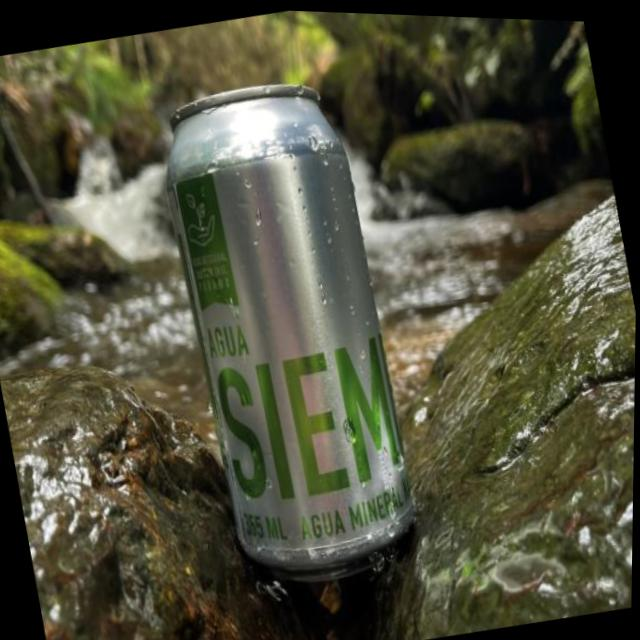Lata: (140, 75, 434, 588)
